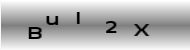2: (104, 20, 118, 34)
B: (27, 26, 43, 40)
X: (133, 23, 150, 37)
l: (75, 10, 81, 26)
u: (45, 15, 59, 26)
